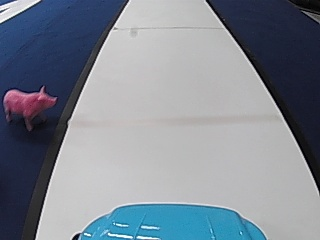pig: (2, 82, 57, 129)
